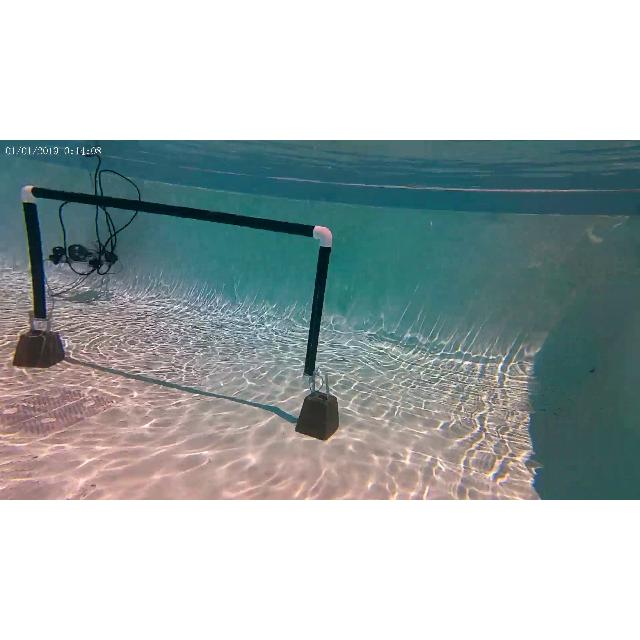prequal gate: (22, 186, 328, 378)
prequal gate leg l: (17, 182, 59, 348)
prequal gate leg r: (306, 216, 334, 380)
